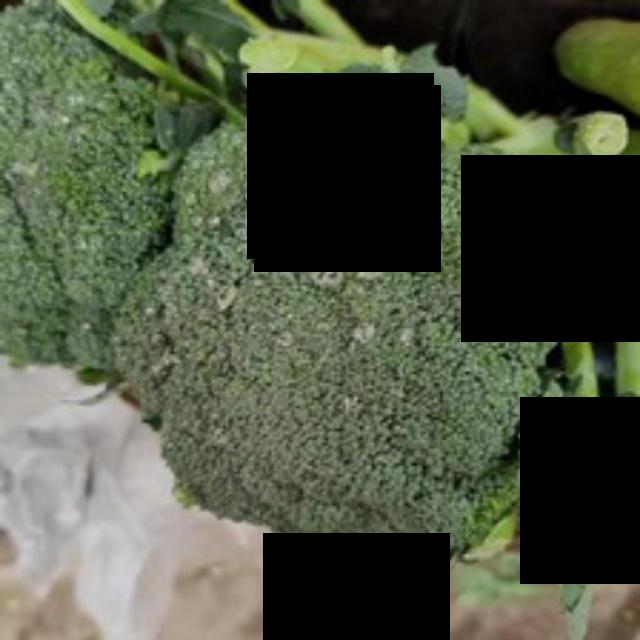broccoli: (107, 73, 586, 575)
